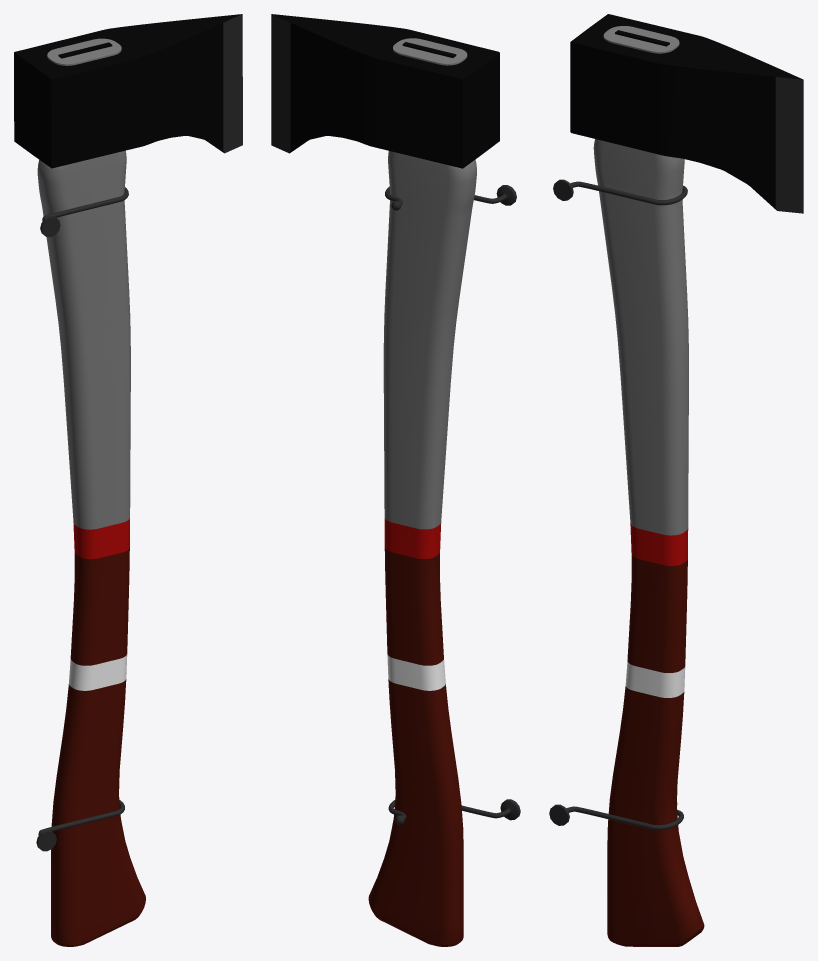
3 renders of one model, left to right at view 1: azimuth 30°, elevation 25°; view 2: azimuth 150°, elevation 25°; view 3: azimuth 330°, elevation 25°, orthographic. The views are drawn at different scales.
Visible parts, largest first — view 1: pp1136, pp1166, pp0312, pp0314; view 2: pp1136, pp1166, pp0312, pp0314; view 3: pp1136, pp1166, pp0312, pp0314.
Part boxes in pixels (x1=…): pp1136: x1=37, y1=38, x2=145, y2=946; pp1166: x1=14, y1=14, x2=242, y2=168; pp0312: x1=36, y1=800, x2=124, y2=851; pp0314: x1=40, y1=187, x2=128, y2=237; pp1136: x1=368, y1=38, x2=476, y2=946; pp1166: x1=271, y1=14, x2=499, y2=168; pp0312: x1=388, y1=799, x2=520, y2=824; pp0314: x1=385, y1=185, x2=516, y2=210; pp1136: x1=593, y1=26, x2=704, y2=946; pp1166: x1=570, y1=14, x2=803, y2=213; pp0312: x1=549, y1=802, x2=683, y2=830; pp0314: x1=553, y1=179, x2=687, y2=205.
Bounding box in the file's own units: 108 × 403 × 34.36.
